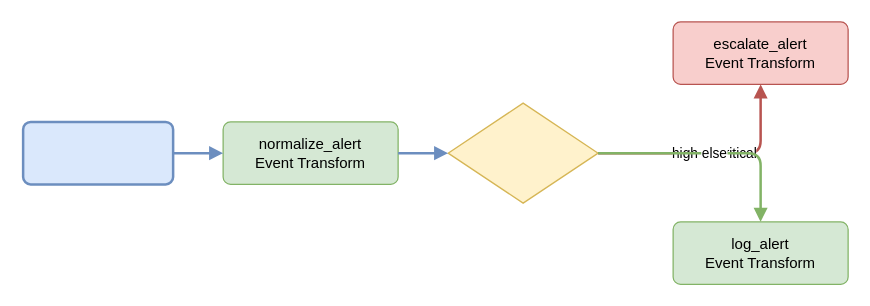
Image size: 870x306. Some labels were removed from this diagram. The shapes that lost their labels are listed below. From the top down, each one's centre as x and y in pixels, then its label:
At pixel 97 152: "receive_alert Webhook".
At pixel 522 152: "check_severity Condition".
